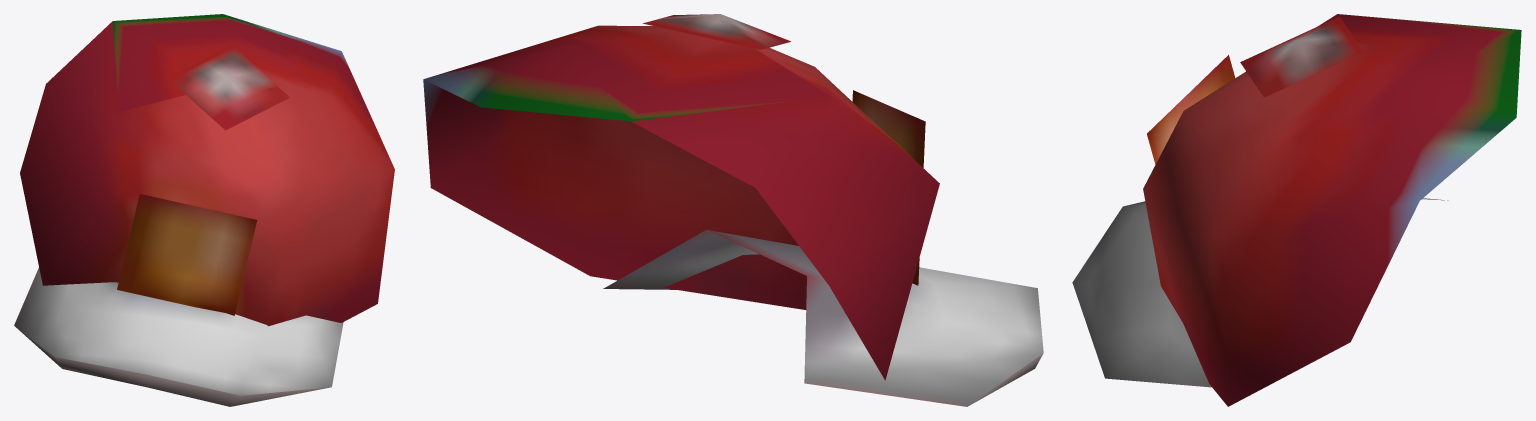
File: fg_cap_out.dae
3 views of the same model, side by side, from view 1: azimuth 30°, elevation 25°; view 2: azimuth 150°, elevation 25°; view 3: azimuth 270°, elevation 25° (orthographic). The views are drawn at different scales.
Visible parts, largest first — view 1: fg_cap_out; view 2: fg_cap_out; view 3: fg_cap_out.
Part boxes in pixels (x1,y1,x2,y2): fg_cap_out: (14, 14, 394, 406); fg_cap_out: (423, 14, 1043, 406); fg_cap_out: (1072, 14, 1521, 406).
Bounding box in the file's own units: 15.84 × 10.41 × 12.87.
Materials: 1 (1 with a texture image).
